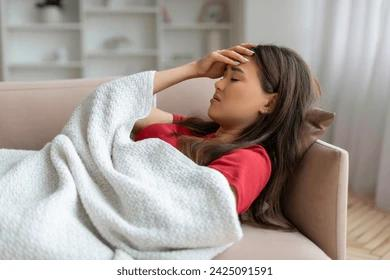blanket: (0, 69, 243, 260)
short sleeve shirt: (133, 112, 272, 214)
